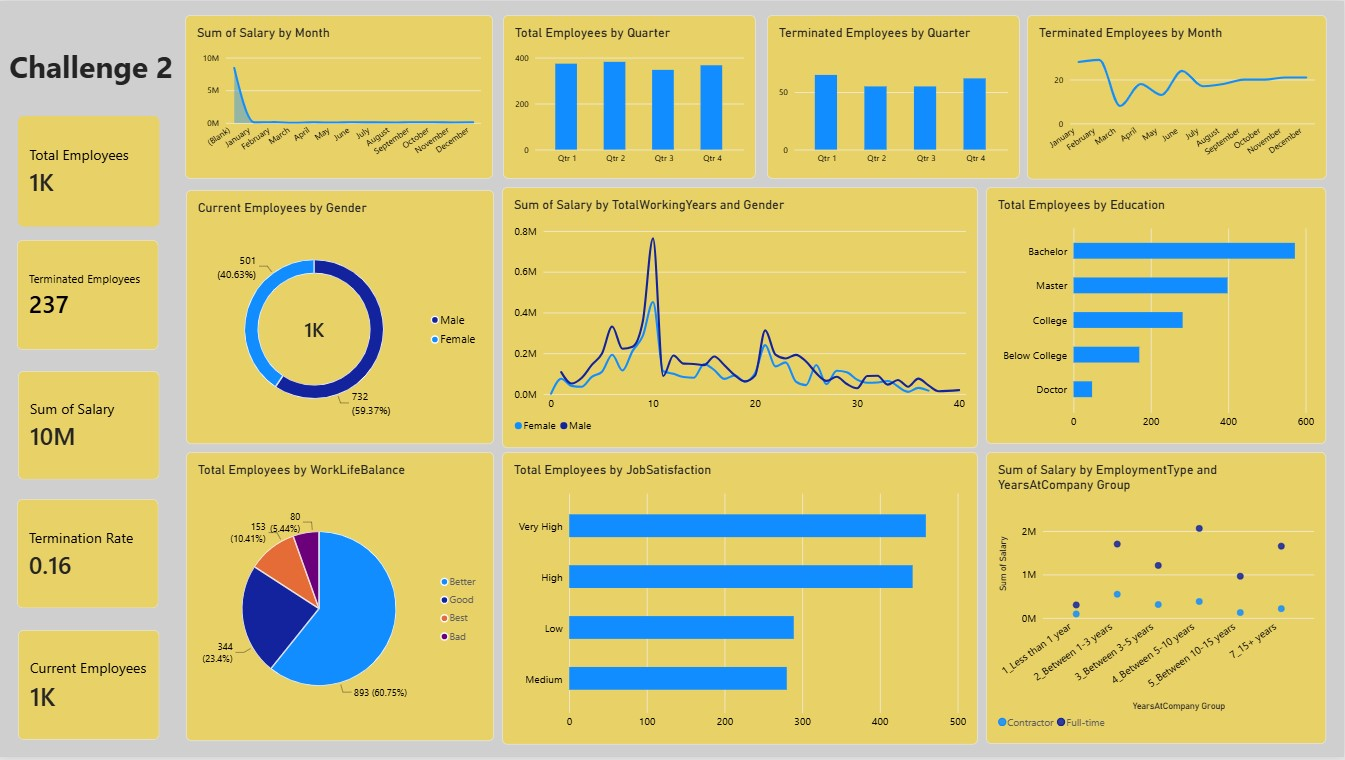

What the dashboard file says about the page in this screenshot:
{"tool":"powerbi","page":{"name":"Challenge 2","canvas":[1920,1080],"ordinal":1},"visuals":[{"type":"cardVisual","fields":{"Data":["Dataset.Total Employees"]},"box":[25.4,164.5,202.9,158.6],"z":0},{"type":"cardVisual","fields":{"Data":["Dataset.Current Employees"]},"box":[25.4,898.8,202.9,157.1],"z":1000},{"type":"cardVisual","fields":{"Data":["Dataset.Terminated Employees"]},"box":[24.9,341.6,202.5,157.5],"z":2000},{"type":"cardVisual","fields":{"Data":["Dataset.Termination Rate"]},"box":[24.9,711.6,202.8,156.8],"z":3000},{"type":"cardVisual","fields":{"Data":["Sum(Dataset.Salary)"]},"box":[25.4,528.8,202.9,155.7],"z":4000},{"type":"donutChart","fields":{"Category":["Dataset.Gender"],"Y":["Dataset.Current Employees"]},"box":[265,270,440,362.5],"z":5000},{"type":"clusteredBarChart","fields":{"Category":["Dataset.Education"],"Y":["Dataset.Total Employees"]},"box":[1408.6,265.7,485.7,367.1],"z":6000},{"type":"clusteredBarChart","fields":{"Category":["Dataset.JobSatisfaction"],"Y":["Dataset.Total Employees"]},"box":[717.5,645,680,417.5],"z":7000},{"type":"pieChart","fields":{"Category":["Dataset.WorkLifeBalance"],"Y":["Dataset.Total Employees"]},"box":[265,645,440,412.5],"z":8000},{"type":"clusteredColumnChart","fields":{"Category":["Dataset.DateStart.Variation.Date Hierarchy.Quarter"],"Y":["Dataset.Total Employees"]},"box":[718.7,20,361.4,234.3],"z":9000},{"type":"clusteredColumnChart","fields":{"Category":["Dataset.DateDeparture.Variation.Date Hierarchy.Quarter"],"Y":["Dataset.Terminated Employees"]},"box":[1095.8,20,361.4,234.3],"z":10000},{"type":"lineChart","fields":{"Category":["Dataset.DateDeparture.Variation.Date Hierarchy.Month"],"Y":["Dataset.Terminated Employees"]},"box":[1467.5,20,427.5,235],"z":11000},{"type":"areaChart","fields":{"Category":["Dataset.DateDeparture.Variation.Date Hierarchy.Month"],"Y":["Sum(Dataset.Salary)"]},"box":[264.4,20,440,234.3],"z":12000},{"type":"scatterChart","fields":{"X":["Dataset.YearsAtCompany Group"],"Y":["Sum(Dataset.Salary)"],"Series":["Dataset.EmploymentType"]},"box":[1408.6,644.3,485.7,417.1],"z":13000},{"type":"lineChart","fields":{"Category":["Dataset.TotalWorkingYears"],"Y":["Sum(Dataset.Salary)"],"Series":["Dataset.Gender"]},"box":[717.5,265,680,372.5],"z":14000},{"type":"textbox","box":[8.8,63.8,243.8,87.5],"z":15000}]}

Visuals, with their boxes in screenshot pixels (x1, y1, x2, y2), scaled from the page's 1920x1080 canvas onto the 1345x760 screenshot:
cardVisual - Dataset.Total Employees: l=18, t=116, r=160, b=227
cardVisual - Dataset.Current Employees: l=18, t=632, r=160, b=743
cardVisual - Dataset.Terminated Employees: l=17, t=240, r=159, b=351
cardVisual - Dataset.Termination Rate: l=17, t=501, r=160, b=611
cardVisual - Sum(Dataset.Salary): l=18, t=372, r=160, b=482
donutChart - Dataset.Gender x Dataset.Current Employees: l=186, t=190, r=494, b=445
clusteredBarChart - Dataset.Education x Dataset.Total Employees: l=987, t=187, r=1327, b=445
clusteredBarChart - Dataset.JobSatisfaction x Dataset.Total Employees: l=503, t=454, r=979, b=748
pieChart - Dataset.WorkLifeBalance x Dataset.Total Employees: l=186, t=454, r=494, b=744
clusteredColumnChart - Dataset.DateStart.Variation.Date Hierarchy.Quarter x Dataset.Total Employees: l=503, t=14, r=757, b=179
clusteredColumnChart - Dataset.DateDeparture.Variation.Date Hierarchy.Quarter x Dataset.Terminated Employees: l=768, t=14, r=1021, b=179
lineChart - Dataset.DateDeparture.Variation.Date Hierarchy.Month x Dataset.Terminated Employees: l=1028, t=14, r=1327, b=179
areaChart - Dataset.DateDeparture.Variation.Date Hierarchy.Month x Sum(Dataset.Salary): l=185, t=14, r=493, b=179
scatterChart - Dataset.YearsAtCompany Group x Sum(Dataset.Salary): l=987, t=453, r=1327, b=747
lineChart - Dataset.TotalWorkingYears x Sum(Dataset.Salary): l=503, t=186, r=979, b=449
textbox: l=6, t=45, r=177, b=106
